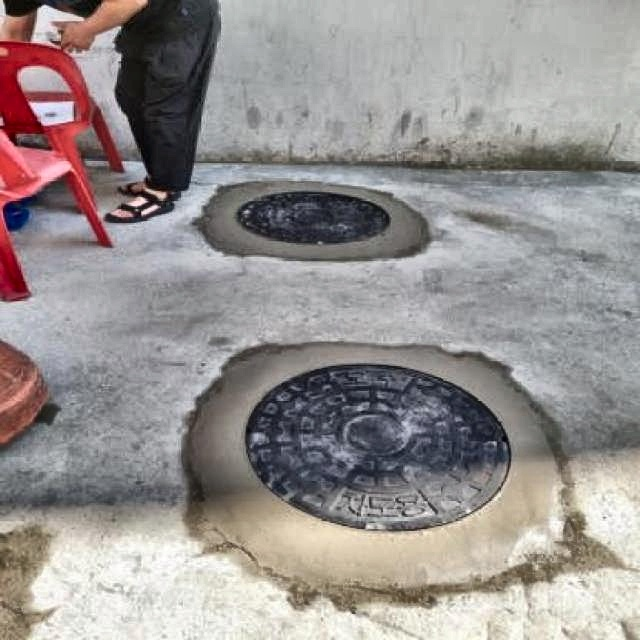Sewer Cover: (248, 358, 528, 550)
